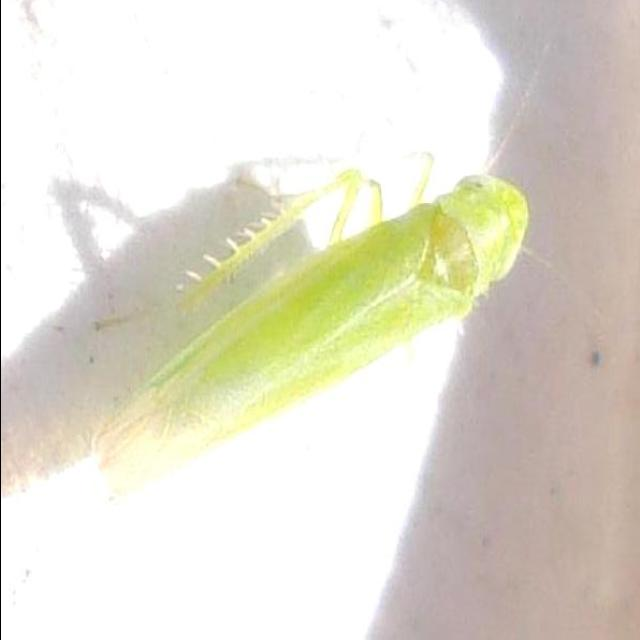green leaf hopper: (99, 170, 527, 489)
